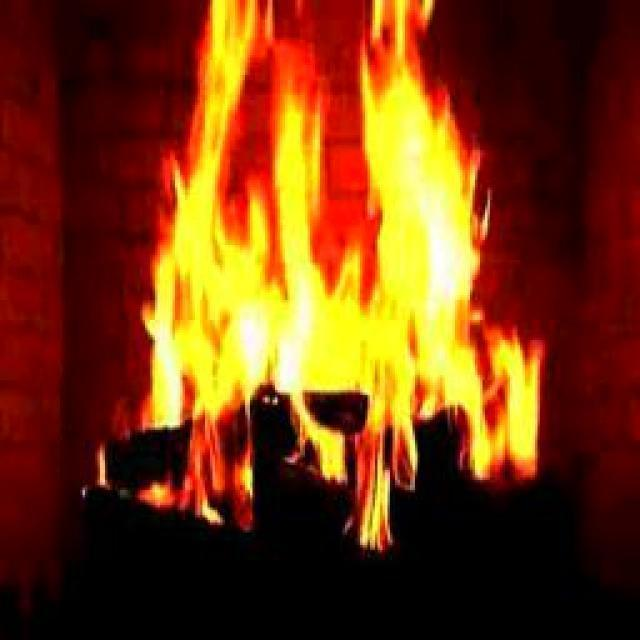Fire: (152, 37, 463, 431)
